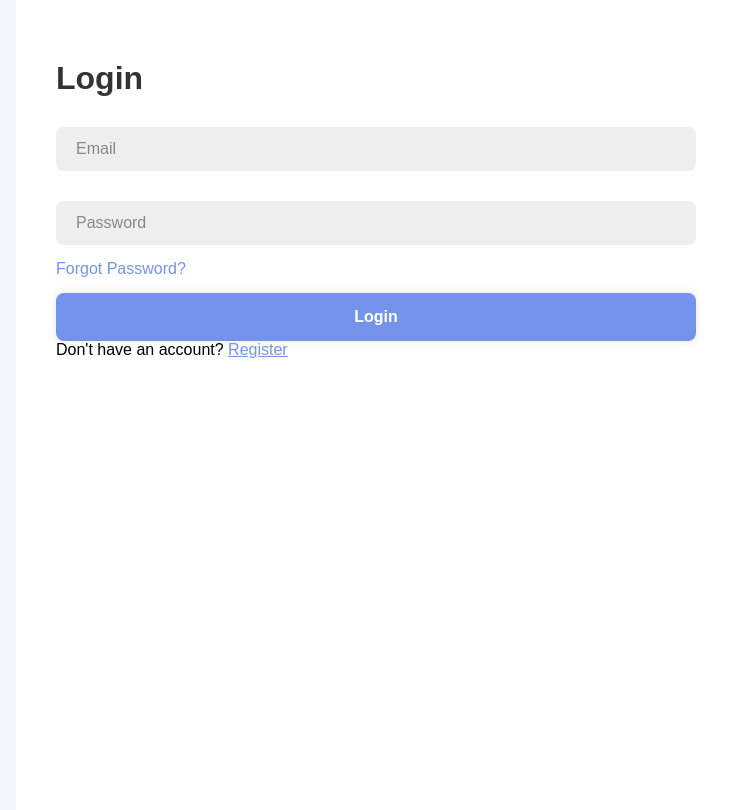
Scenario: Login Component Core Validation & Security Pipeline › disables the login execution button and shows a loading state during ongoing promises
Step 1. Type "test@wits.ac.za" into the field with placeholder "Email" → (376, 149), box [56,127,696,171]
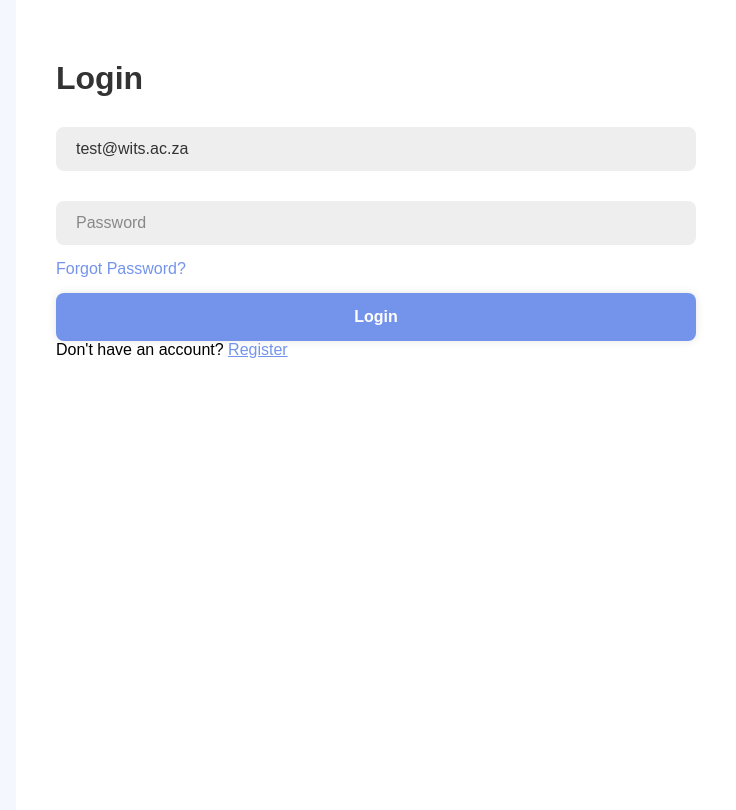
Step 2. Type "password" into the password field with placeholder "Password" → (376, 223), box [56,201,696,245]
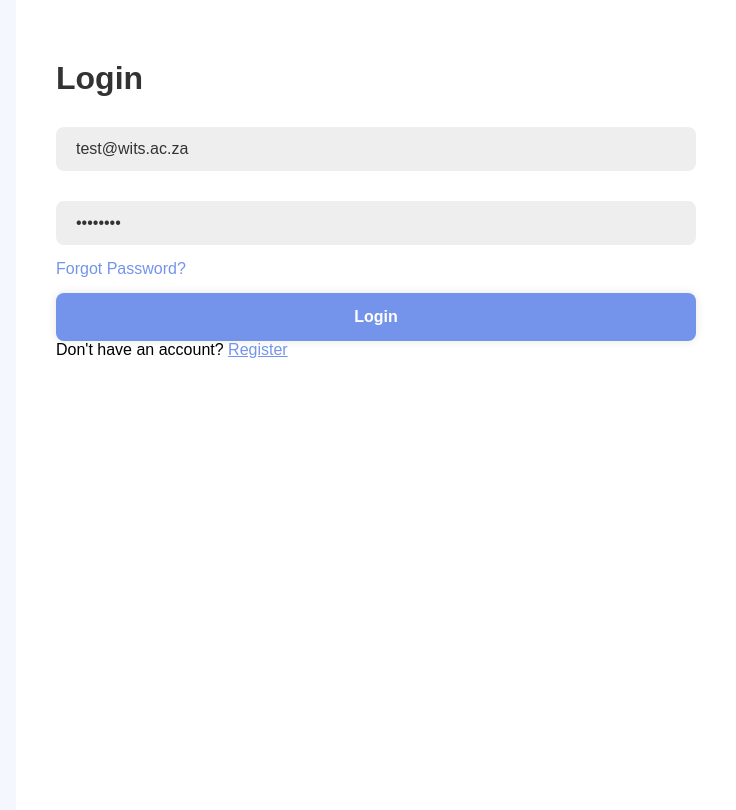
Step 3. Click the button "Login" → (376, 317), box [56,293,696,341]
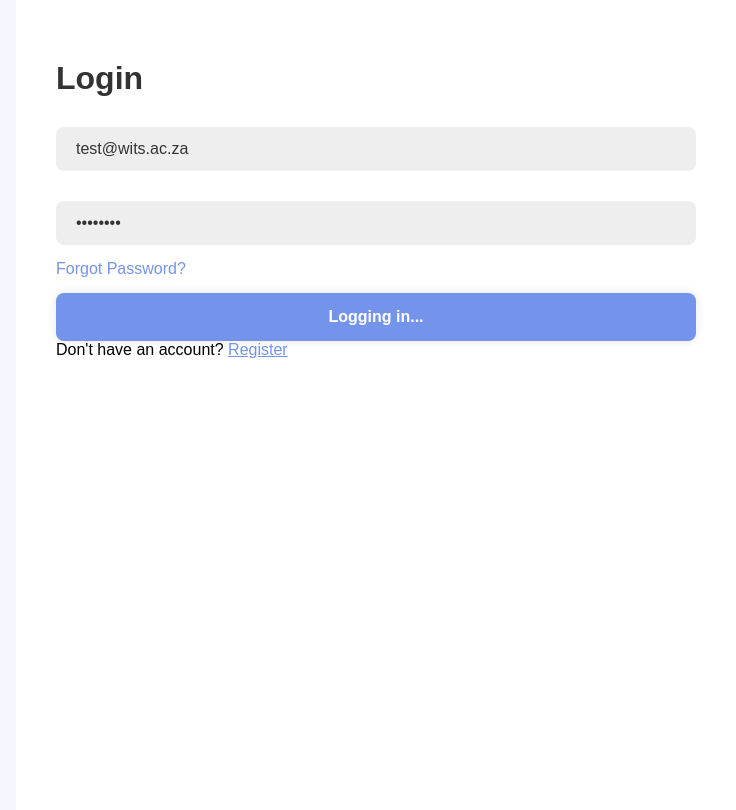
Expected: the button named "Login" is disabled, [56,293,696,341]
